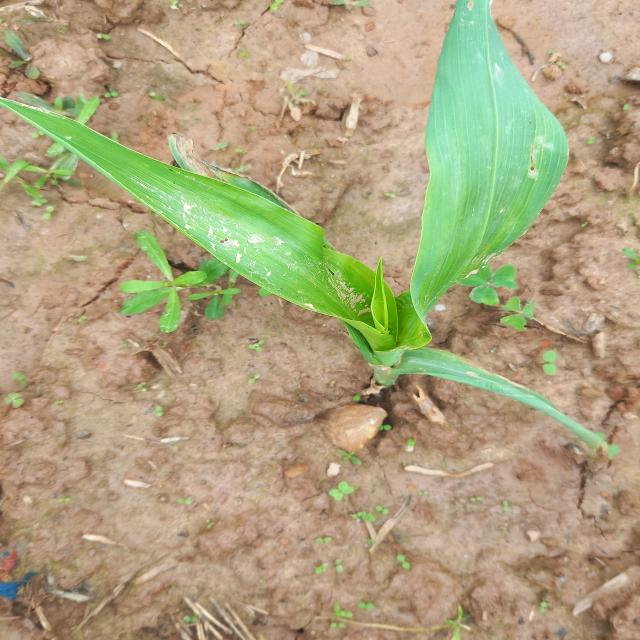maize: (226, 230, 469, 407), (431, 22, 567, 244), (73, 117, 288, 238)
weed: (480, 272, 576, 378), (138, 258, 216, 334), (21, 152, 49, 202)
